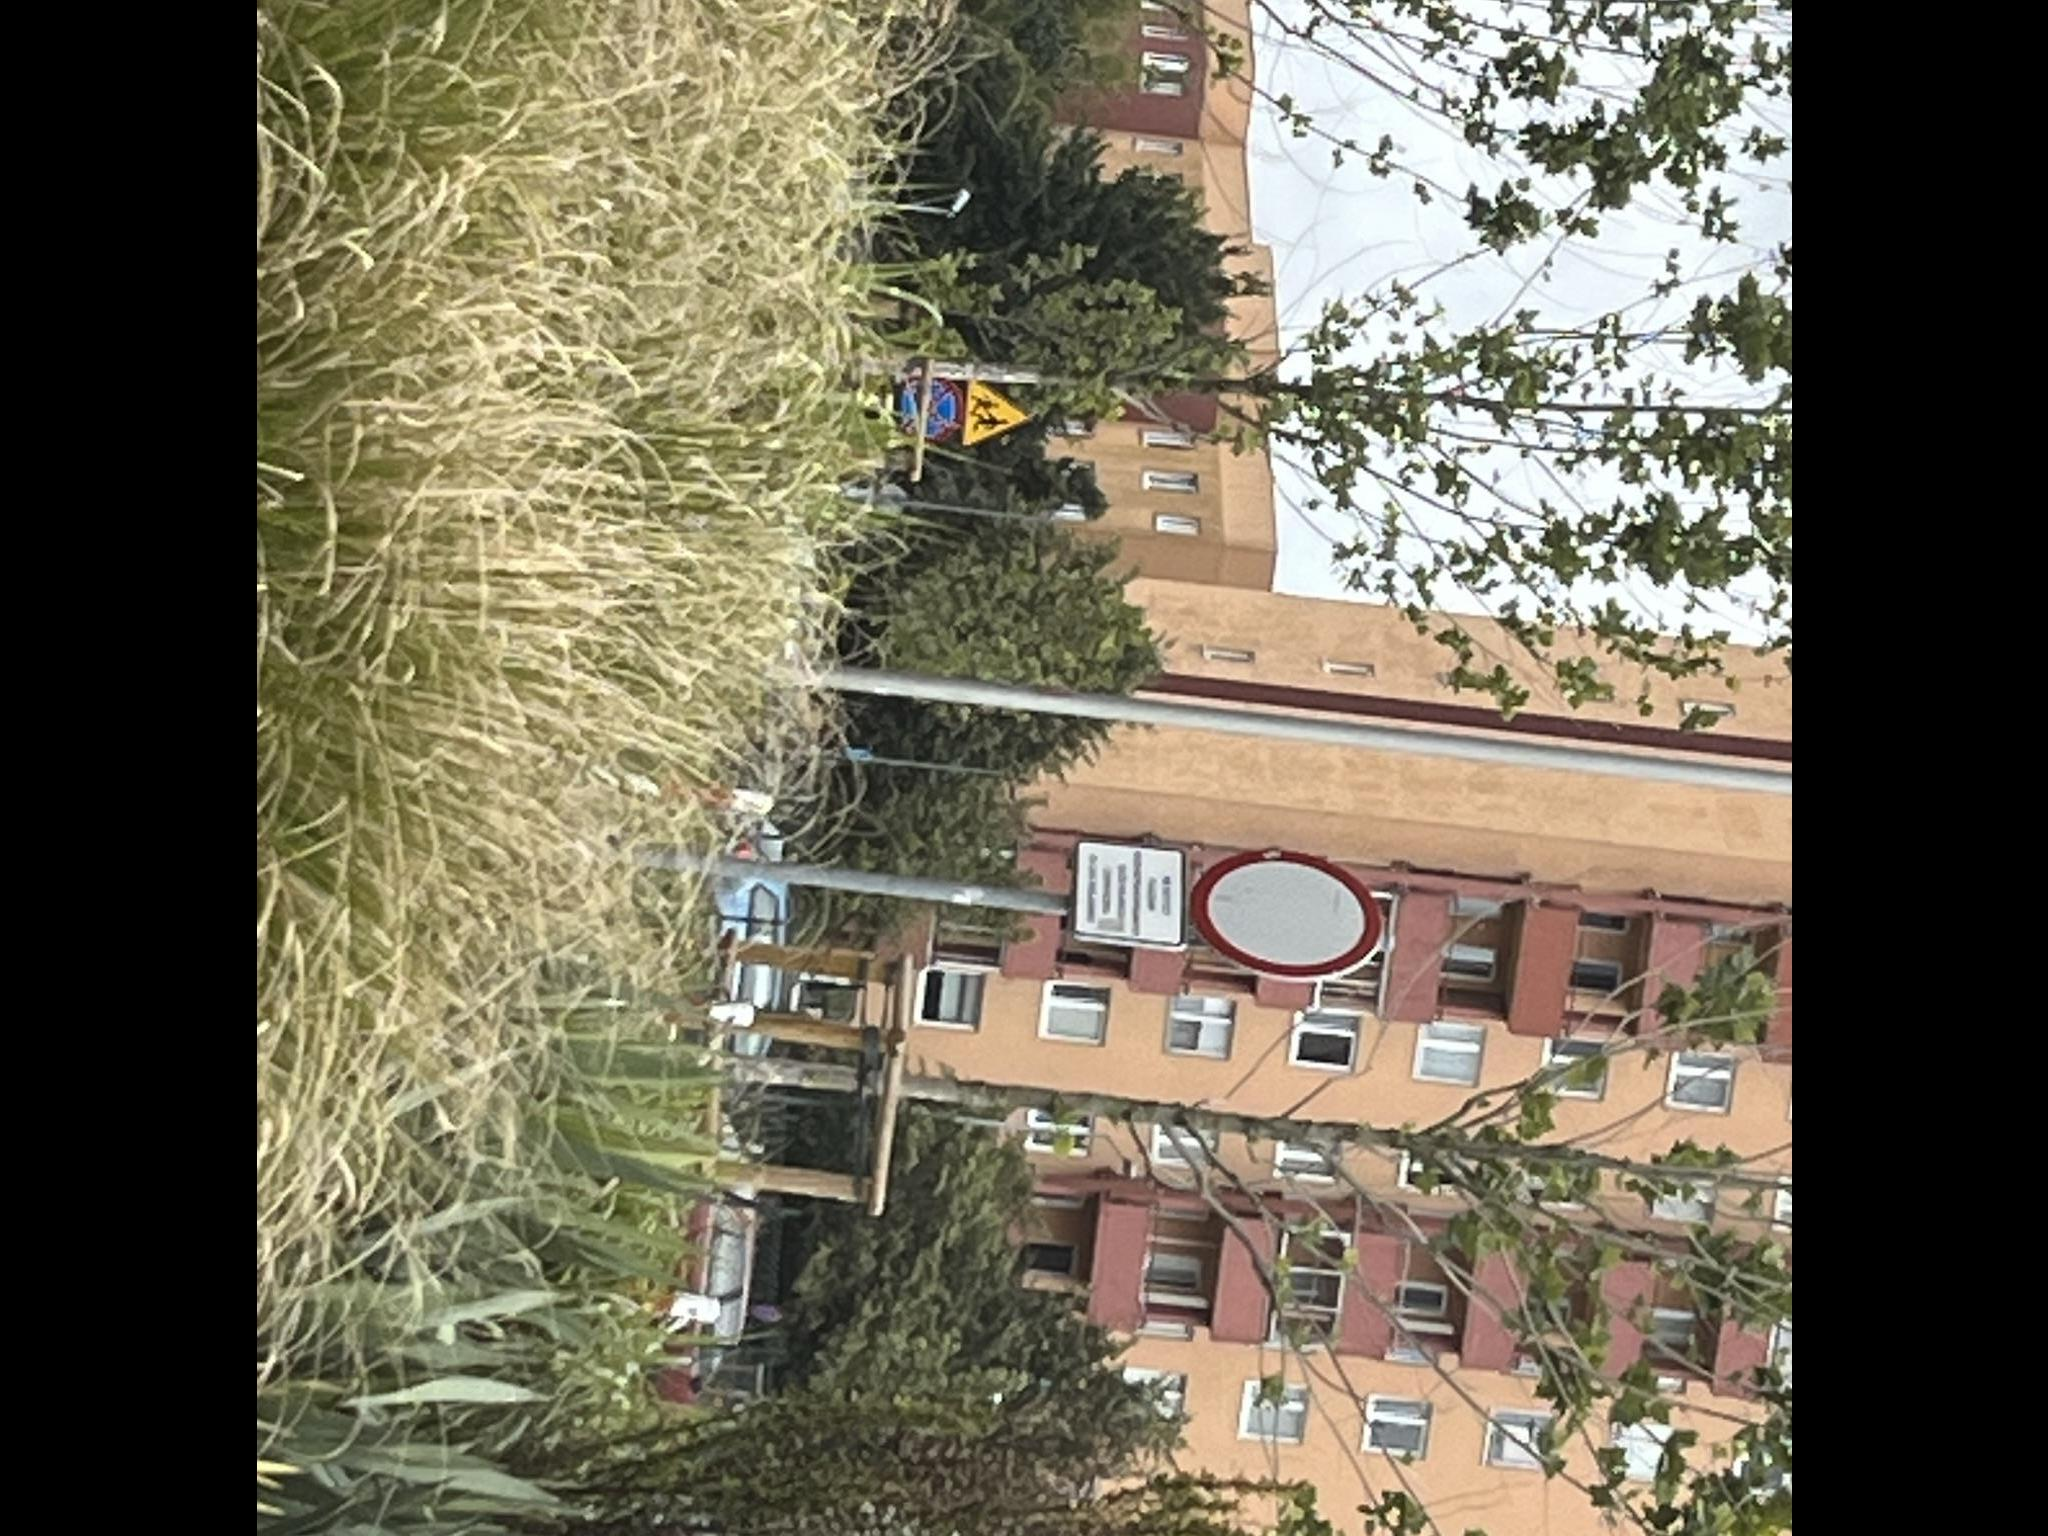prohibitory: (1185, 842, 1388, 984), (897, 378, 958, 440)
warning: (1064, 837, 1184, 962), (961, 378, 1035, 452)
